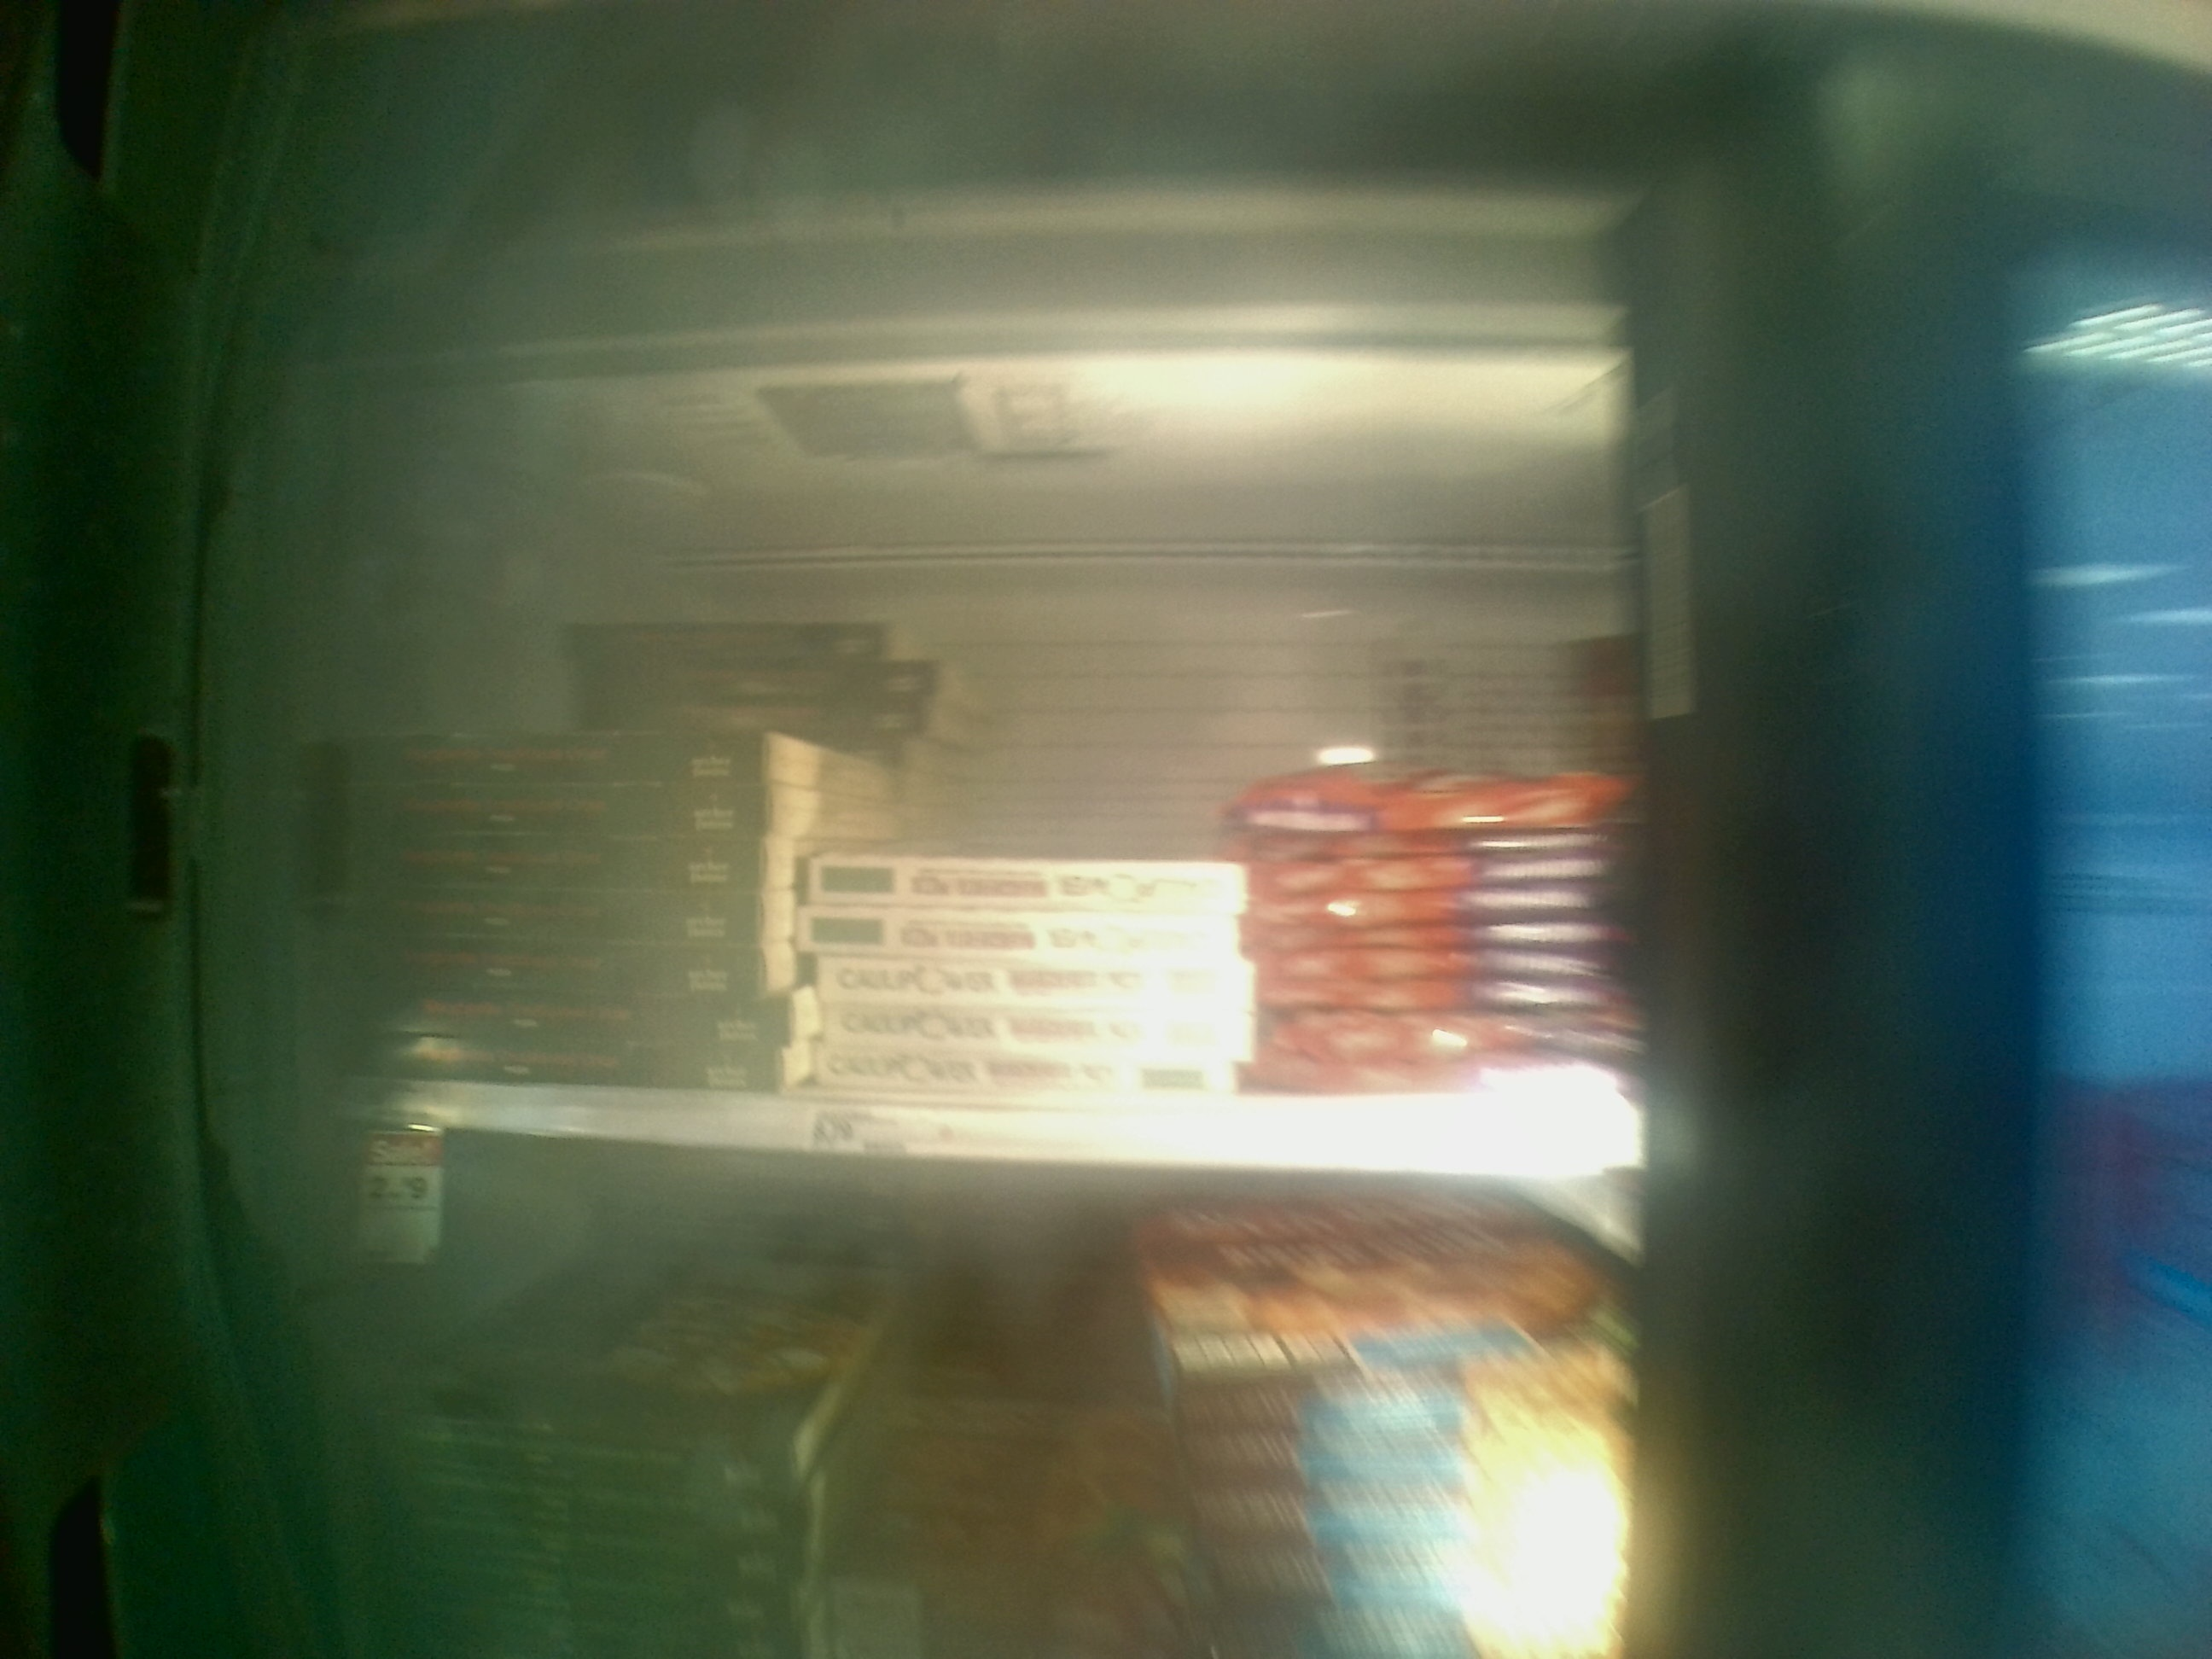shelf: (329, 458, 1665, 1185)
